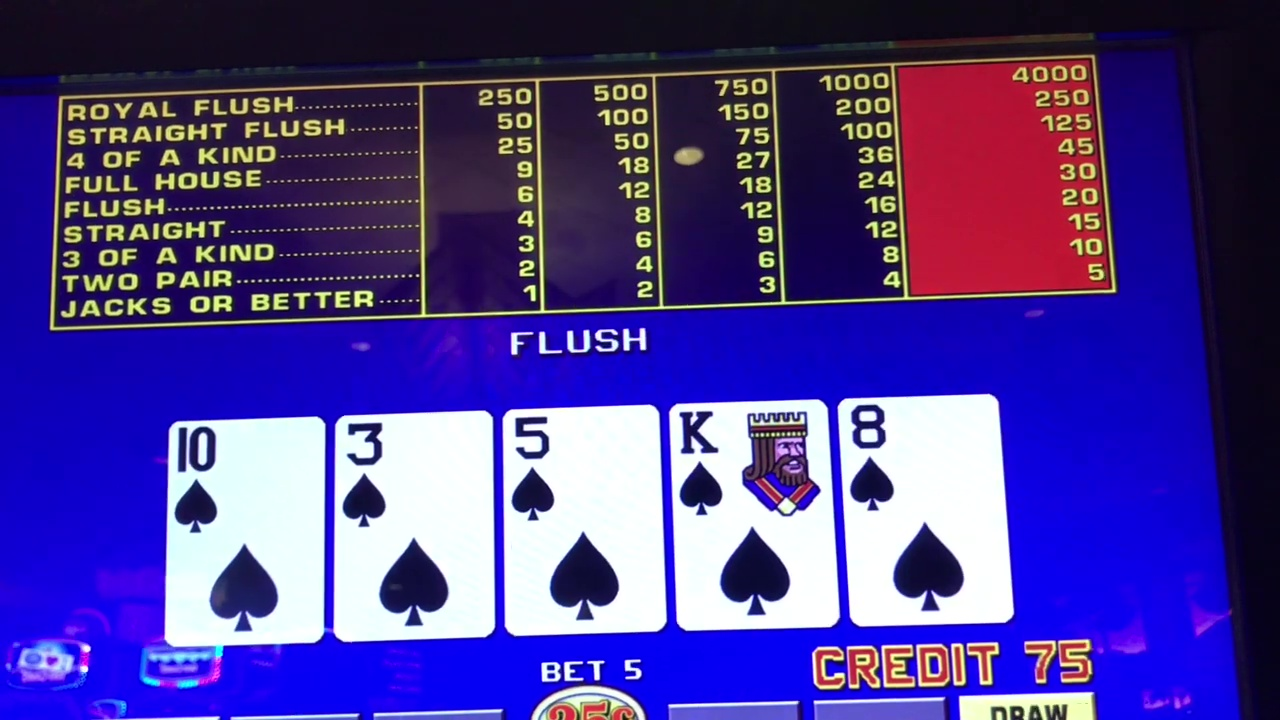S3: (342, 411, 486, 532)
S5: (508, 409, 653, 529)
S8: (850, 397, 995, 519)
SK: (681, 405, 825, 524)
ST: (167, 419, 319, 533)
